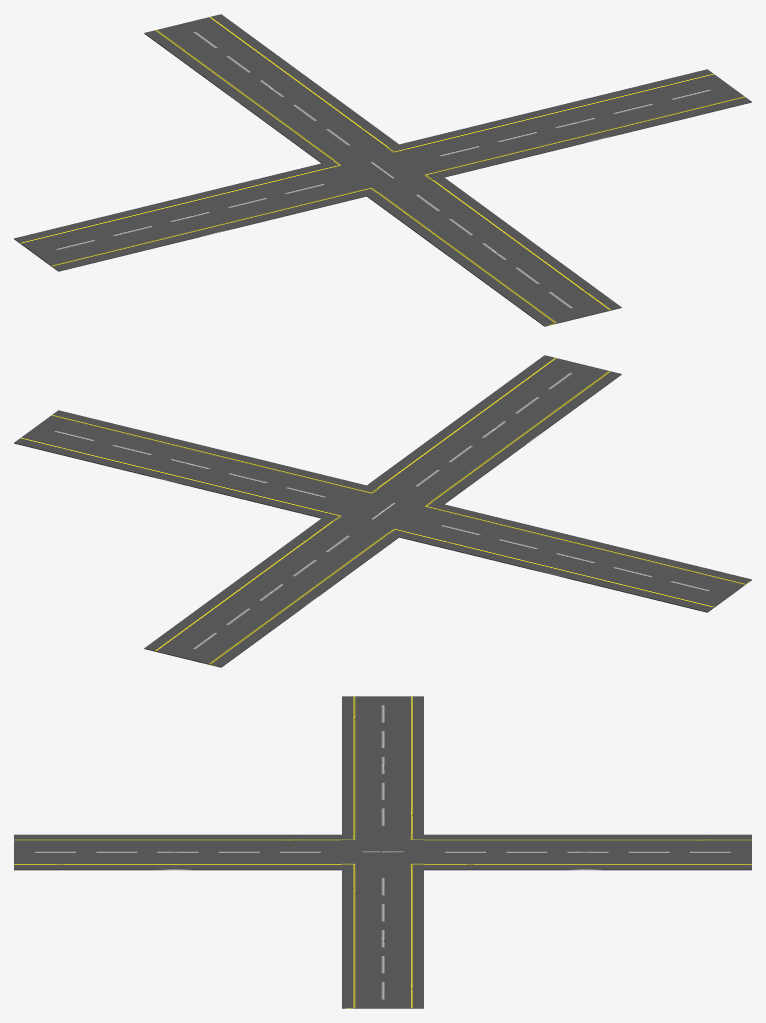
Rendered from intersection X (2).glb.
3 renders of one model, top to bottom at view 1: azimuth 30°, elevation 25°; view 2: azimuth 150°, elevation 25°; view 3: azimuth 270°, elevation 25°, orthographic. The views are drawn at different scales.
Visible parts, largest first — view 1: Cube.002; view 2: Cube.002; view 3: Cube.002.
Boxes of the visible parts, <box> form: Cube.002: <box>14,14,751,326</box>; Cube.002: <box>14,355,751,667</box>; Cube.002: <box>14,696,751,1008</box>.
Size of the model in its own units: 180 by 0.2 by 180.
Materials: 2 (2 with a texture image).
